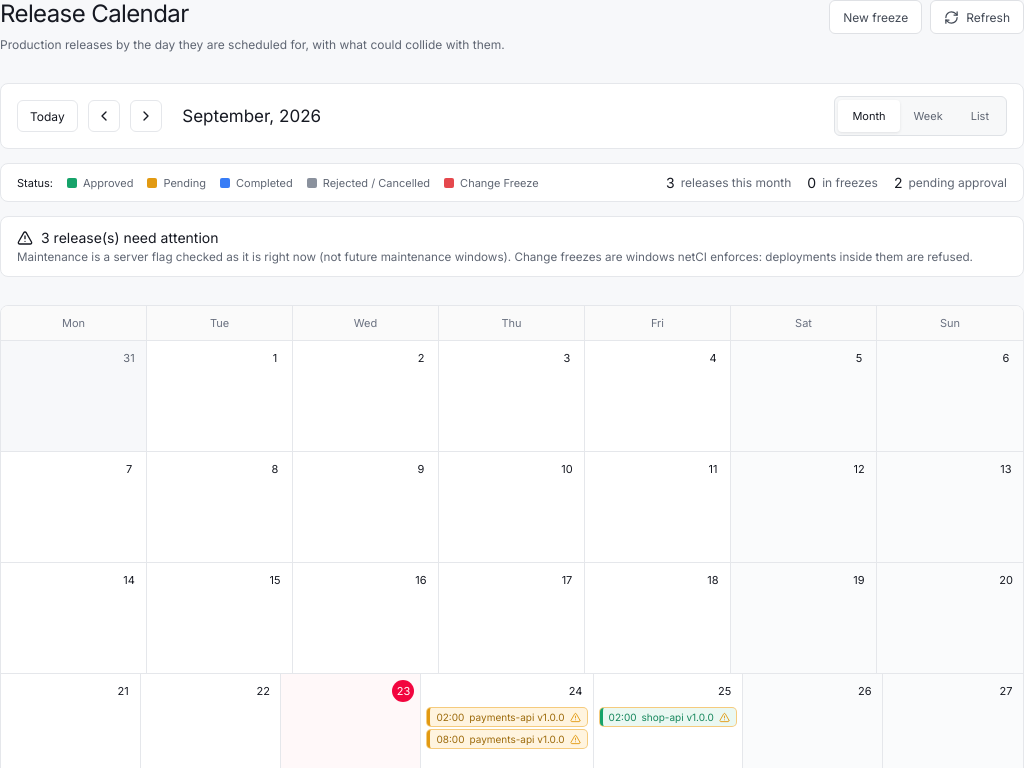
Test: ReleaseCalendarPage › agenda view lists upcoming items
Expected: the element with test id "calendar-summary" is shown, x1=0 y1=216 x2=1023 y2=277
Click the button "List" at (980, 116), box x1=957 y1=100 x2=1003 y2=132
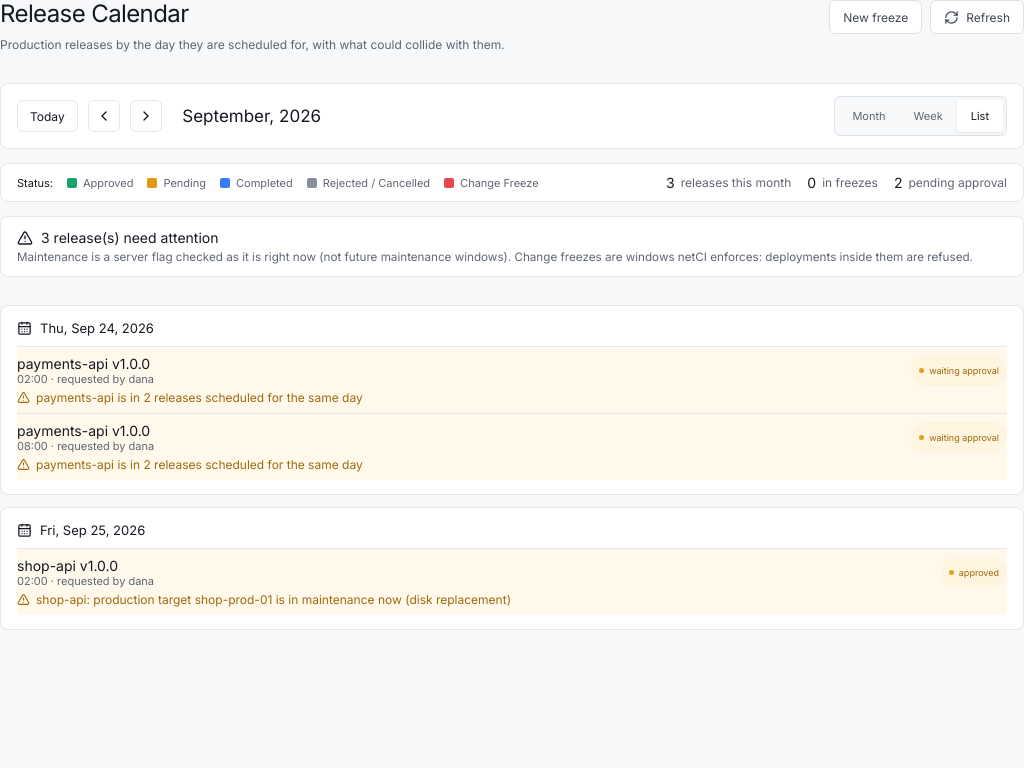
Expected: the element with test id "calendar-agenda-view" is shown, x1=0 y1=305 x2=1023 y2=630
Expected: the element with test id "agenda-day-2026-09-24" is shown, x1=0 y1=305 x2=1023 y2=495
Expected: the element with test id "agenda-day-2026-09-25" is shown, x1=0 y1=507 x2=1023 y2=630
